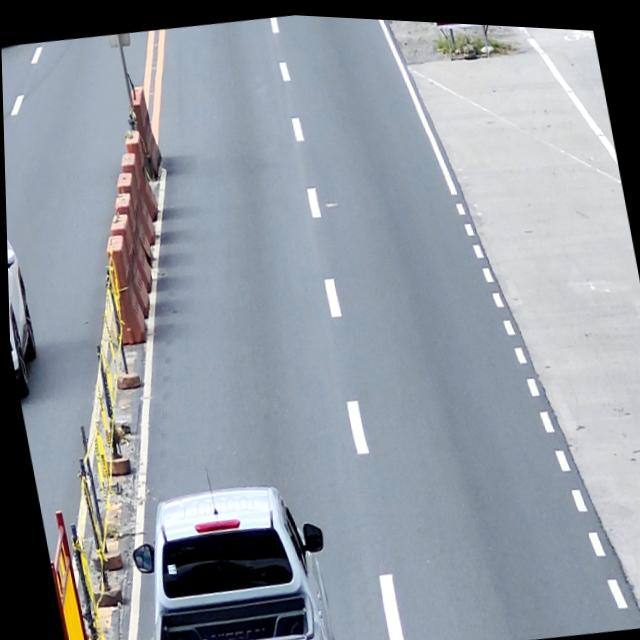Car: (115, 463, 341, 640), (5, 198, 42, 397)
